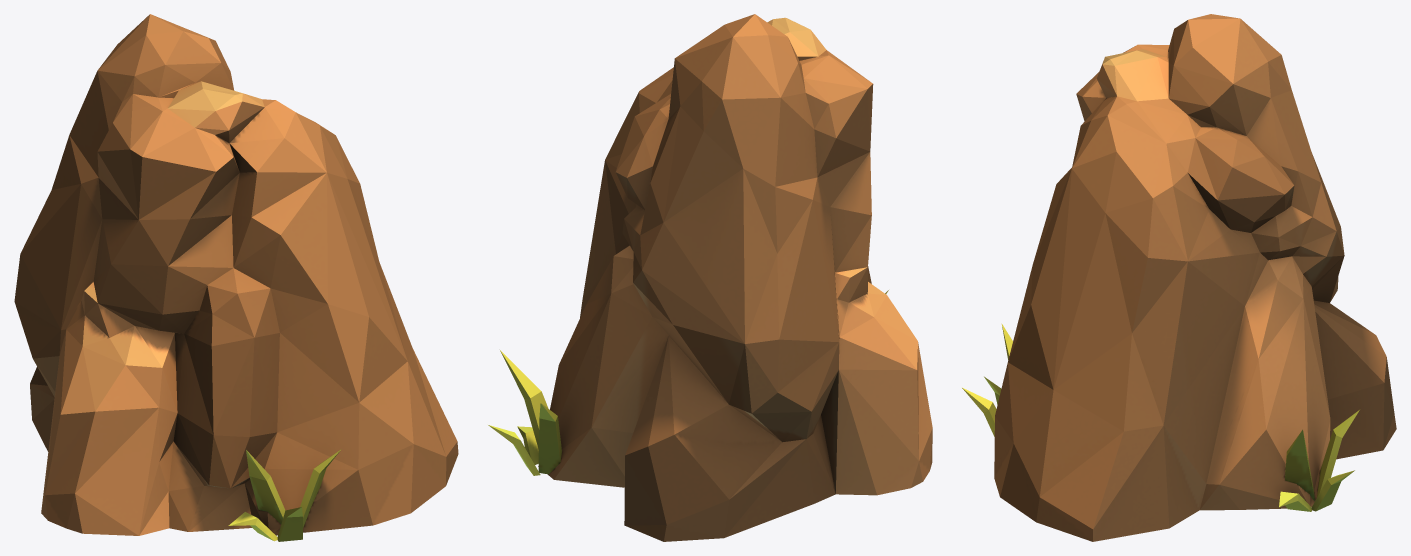
The model's file is Rock.obj.
The picture shows the model from 3 angles, left to right: view 1: azimuth 30°, elevation 25°; view 2: azimuth 150°, elevation 25°; view 3: azimuth 270°, elevation 25°; orthographic projection. The views are drawn at different scales.
Parts seen in each view (by area): view 1: rock; view 2: rock; view 3: rock.
Boxes of the visible parts, left/top/right/bottom form: rock: left=14, top=14, right=458, bottom=541; rock: left=488, top=14, right=932, bottom=541; rock: left=962, top=14, right=1396, bottom=541.
Bounding box in the file's own units: 1.4 × 1.57 × 1.48.
